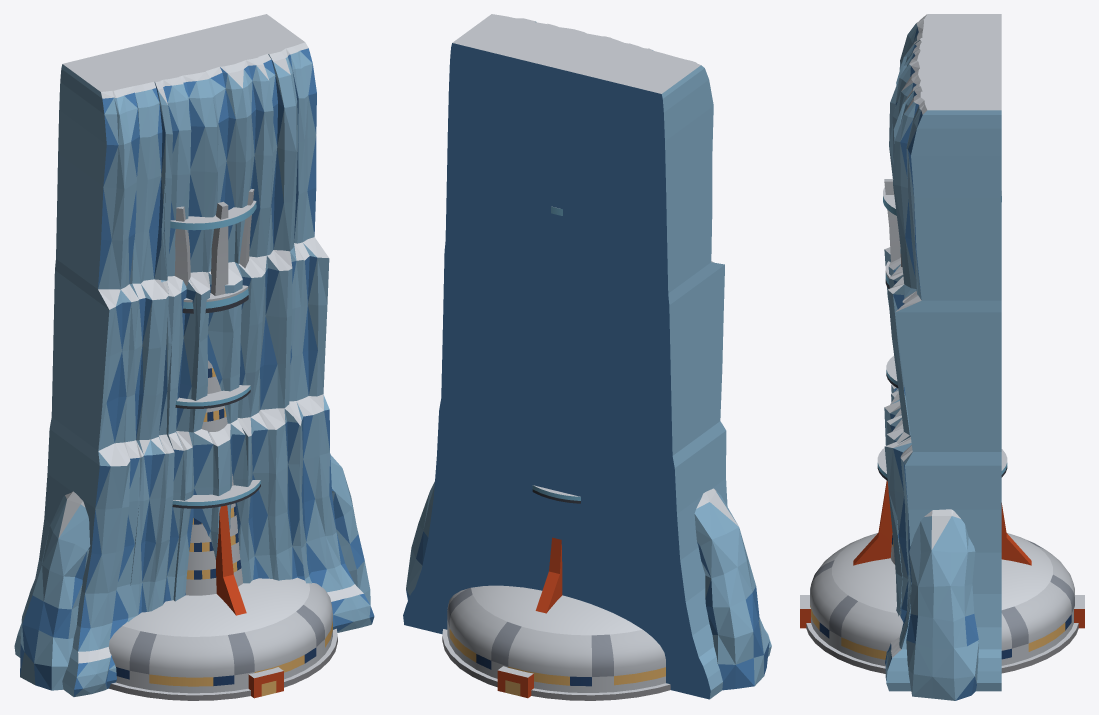
File: fichina_kit.glb
The picture shows the model from 3 angles, left to right: view 1: azimuth 30°, elevation 25°; view 2: azimuth 150°, elevation 25°; view 3: azimuth 270°, elevation 25°; orthographic projection. The views are drawn at different scales.
Parts seen in each view (by area): view 1: Kit_Ice_Falls, Kit_Colony_ClimateCenter, Kit_Ice_Arch; view 2: Kit_Ice_Falls, Kit_Colony_ClimateCenter, Kit_Ice_Arch; view 3: Kit_Ice_Falls, Kit_Colony_ClimateCenter, Kit_Ice_Arch.
Boxes of the visible parts, x1=… form: Kit_Ice_Falls: x1=14, y1=14, x2=374, y2=696; Kit_Colony_ClimateCenter: x1=108, y1=189, x2=337, y2=700; Kit_Ice_Arch: x1=20, y1=454, x2=370, y2=690; Kit_Ice_Falls: x1=403, y1=14, x2=771, y2=699; Kit_Colony_ClimateCenter: x1=442, y1=206, x2=670, y2=700; Kit_Ice_Arch: x1=406, y1=481, x2=769, y2=690; Kit_Ice_Falls: x1=884, y1=14, x2=1001, y2=691; Kit_Colony_ClimateCenter: x1=800, y1=179, x2=1084, y2=673; Kit_Ice_Arch: x1=906, y1=509, x2=978, y2=700.
Size of the model in its own units: 159 by 260 by 120.
